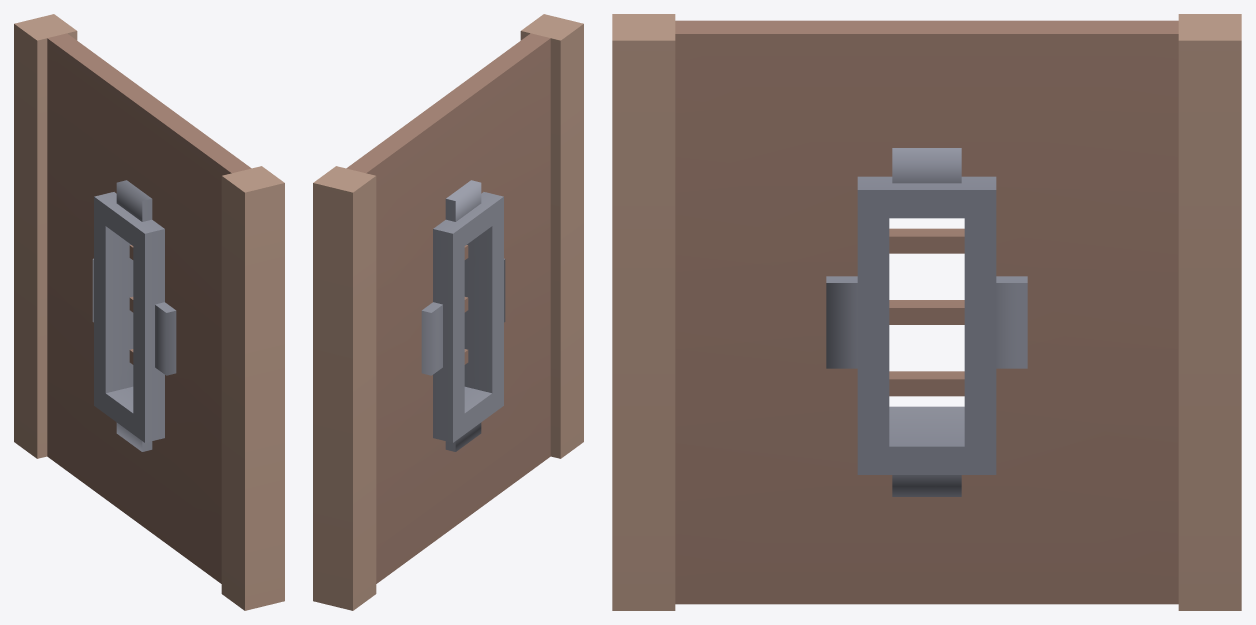
The model's file is wall-wood-window-stone.glb.
3 renders of one model, left to right at view 1: azimuth 30°, elevation 25°; view 2: azimuth 150°, elevation 25°; view 3: azimuth 270°, elevation 25°, orthographic. The views are drawn at different scales.
Visible parts, largest first — view 1: wall-wood-window-stone; view 2: wall-wood-window-stone; view 3: wall-wood-window-stone.
Part boxes in pixels (<box>): wall-wood-window-stone: <box>14,14,284,610</box>; wall-wood-window-stone: <box>313,14,583,610</box>; wall-wood-window-stone: <box>612,14,1241,610</box>.
Size of the model in its own units: 0.15 by 1 by 1.
